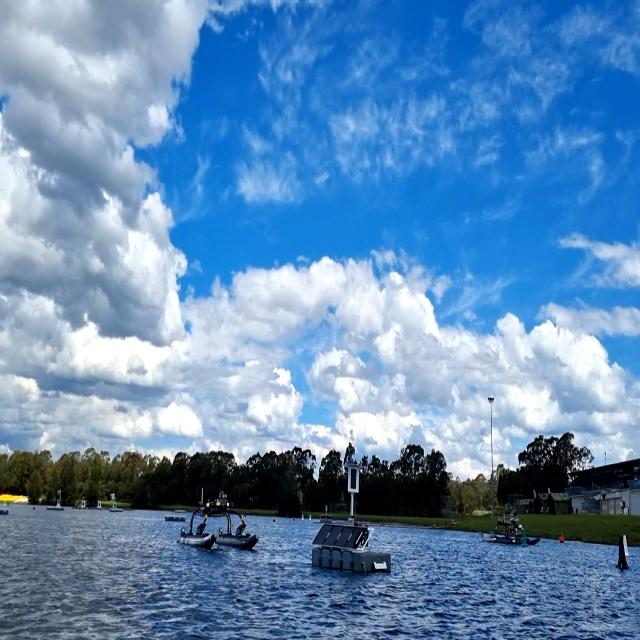led: (350, 468, 358, 490)
